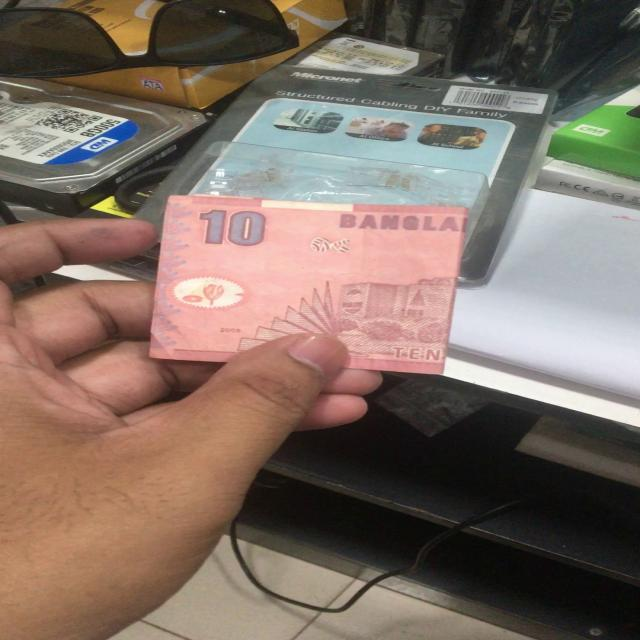Taka: (162, 189, 462, 376)
